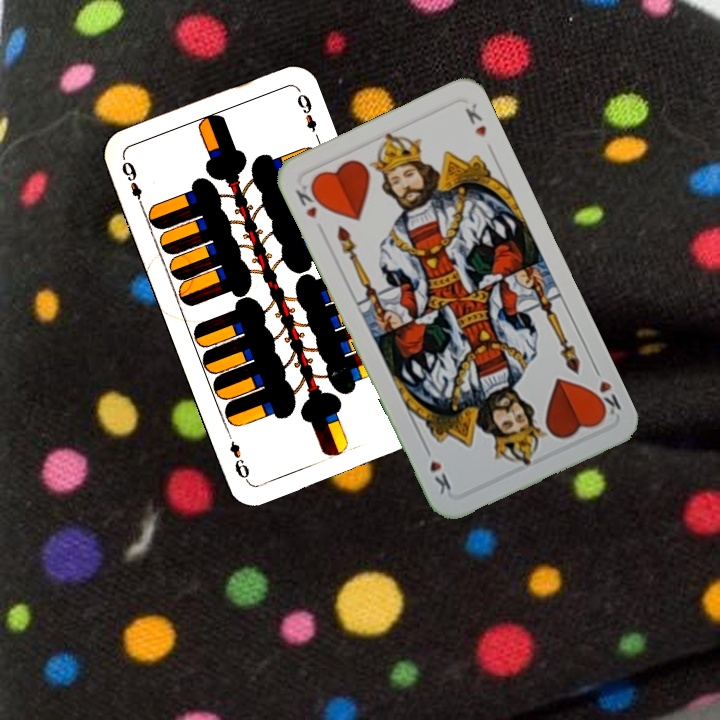E9: (117, 157, 147, 211)
HK: (587, 361, 624, 422), (291, 179, 326, 222)
